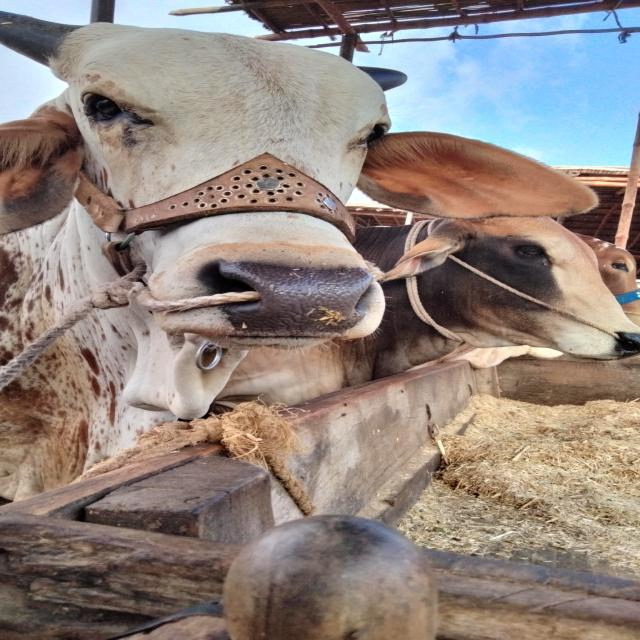muzzles: (184, 253, 384, 342)
